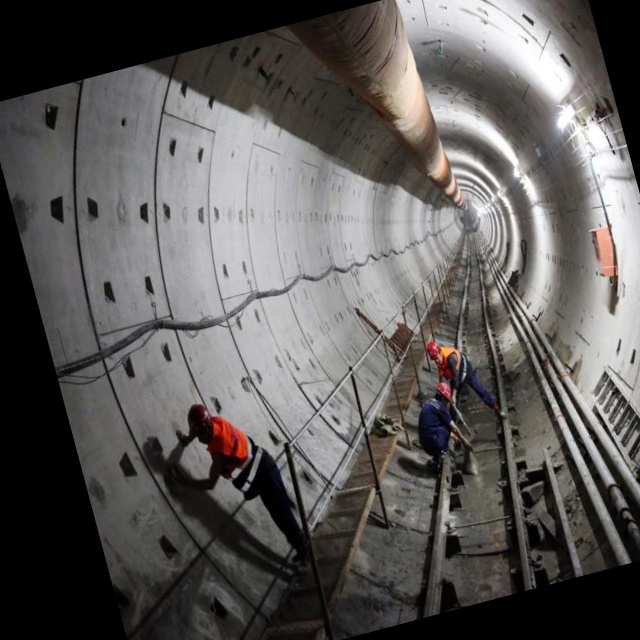Con_Casco: (426, 340, 444, 367)
Con_Chaleco: (201, 409, 271, 495), (440, 341, 474, 383)
